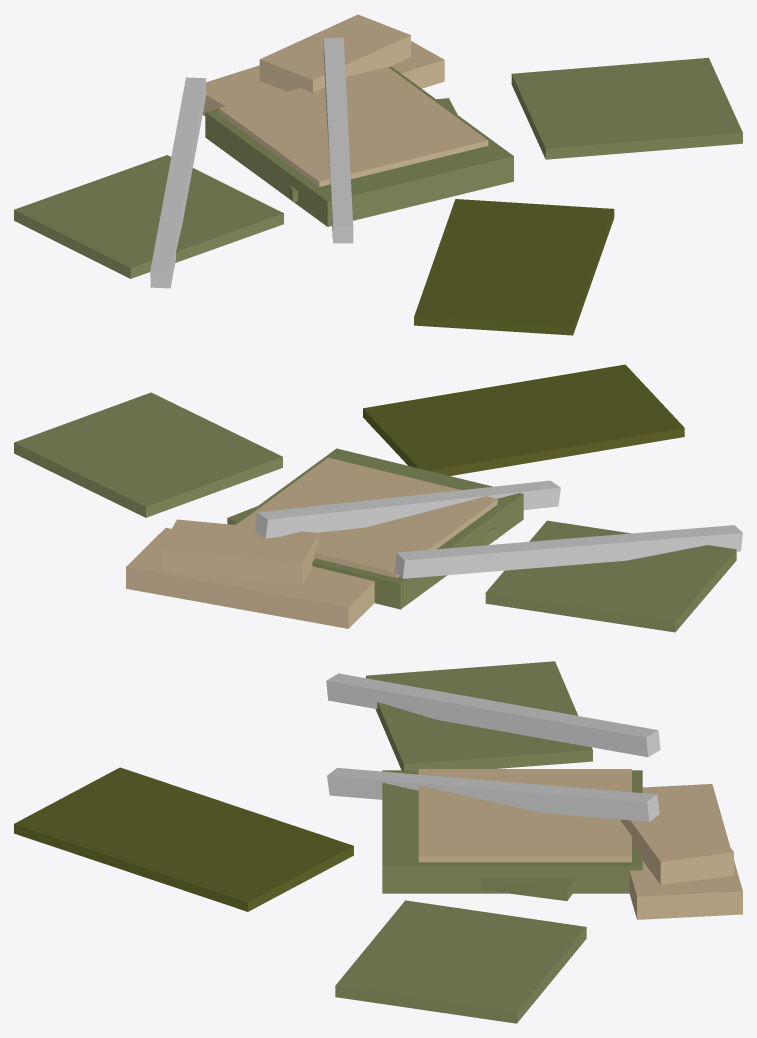
The model's file is SM_HescoCorto1_v4_Red_e3_Brecha_LOD1.fbx.
3 renders of one model, top to bottom at view 1: azimuth 30°, elevation 25°; view 2: azimuth 150°, elevation 25°; view 3: azimuth 270°, elevation 25°, orthographic. The views are drawn at different scales.
Parts seen in each view (by area): view 1: SM_hesco_piezas_v59_LOD1; view 2: SM_hesco_piezas_v59_LOD1; view 3: SM_hesco_piezas_v59_LOD1.
Part boxes in pixels (box(x1,y1,x2,y2)): SM_hesco_piezas_v59_LOD1: box(14, 14, 742, 335); SM_hesco_piezas_v59_LOD1: box(14, 364, 742, 632); SM_hesco_piezas_v59_LOD1: box(14, 661, 742, 1023).
Size of the model in its own units: 3.89 by 0.351 by 3.42.
